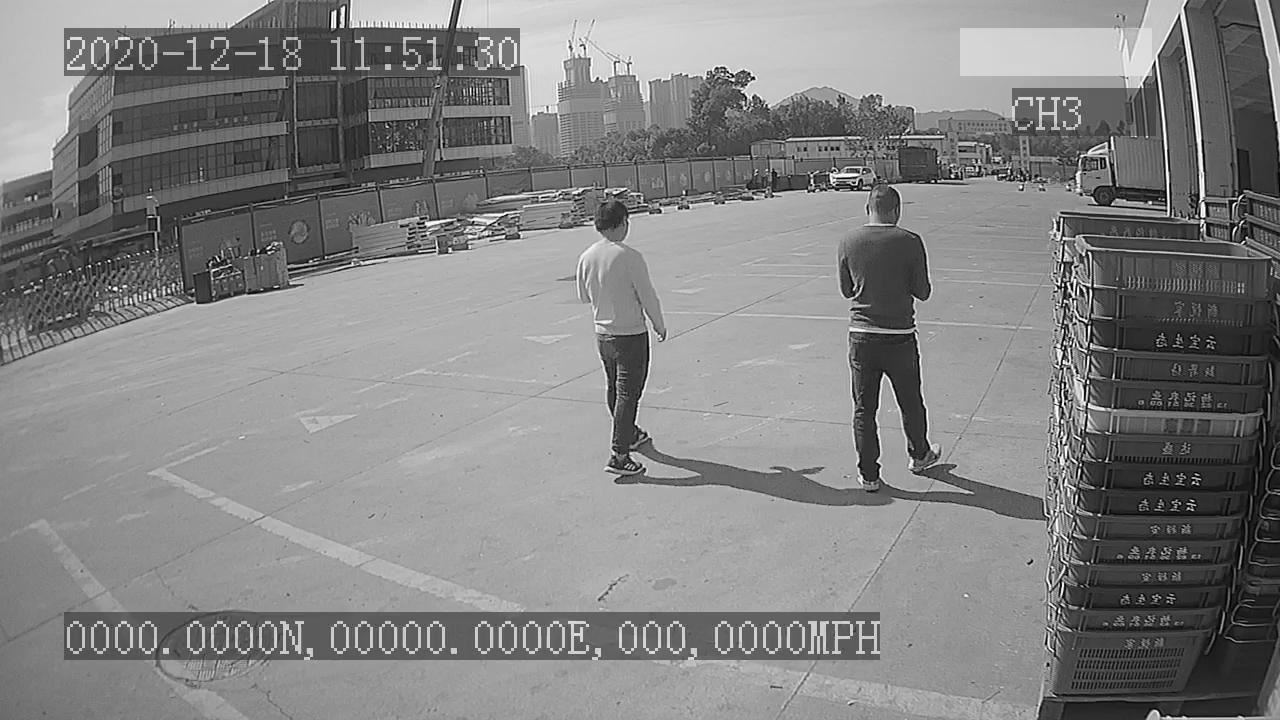person: (833, 183, 951, 501), (568, 192, 672, 477)
